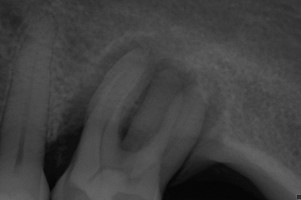Dental Caries: (58, 32, 227, 147)
